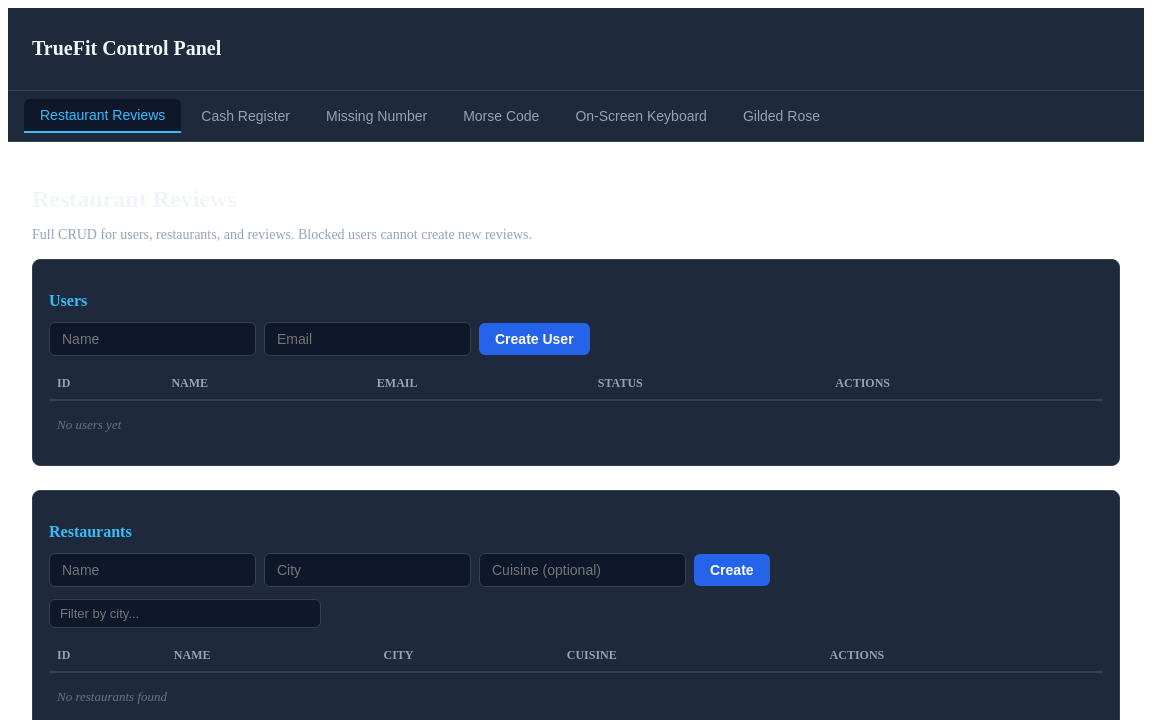
Test: CashRegisterPanel › renders input and run button
The image size is (1152, 720).
Click the tab "Cash Register". click: (246, 116)
box: [185,99,306,133]
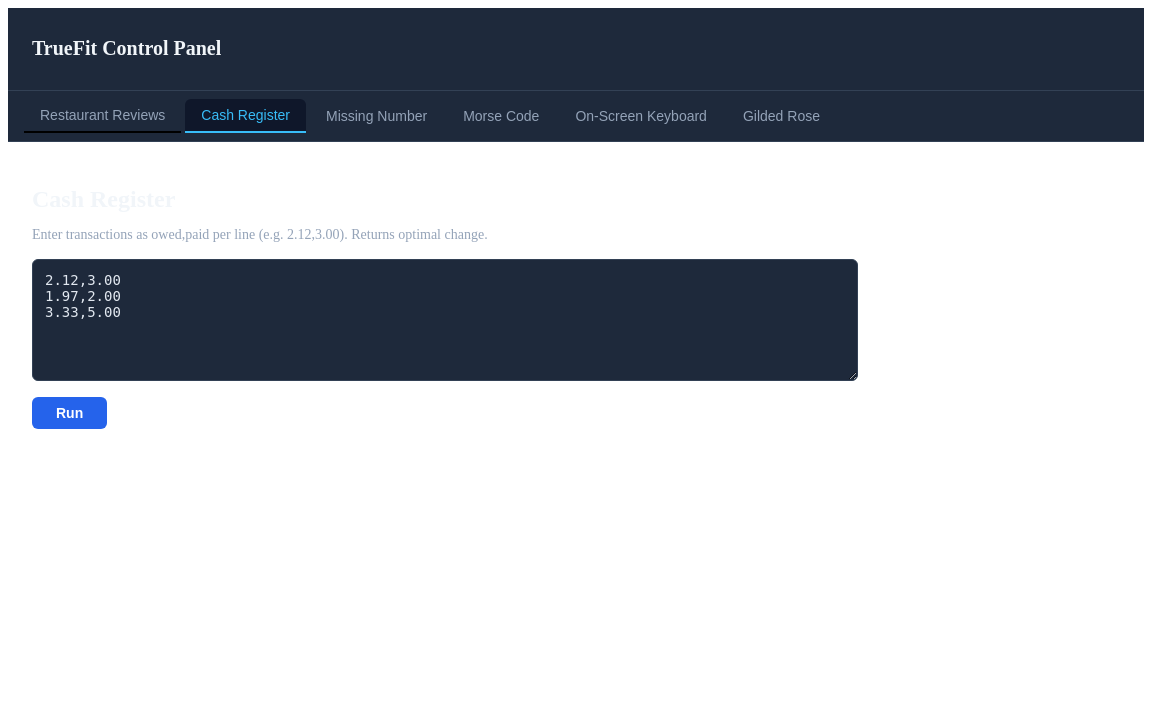
Check: the text box with placeholder "owed,paid" is shown, box [32,259,858,381]
Check: the button "Run" is shown, box [32,397,107,429]
